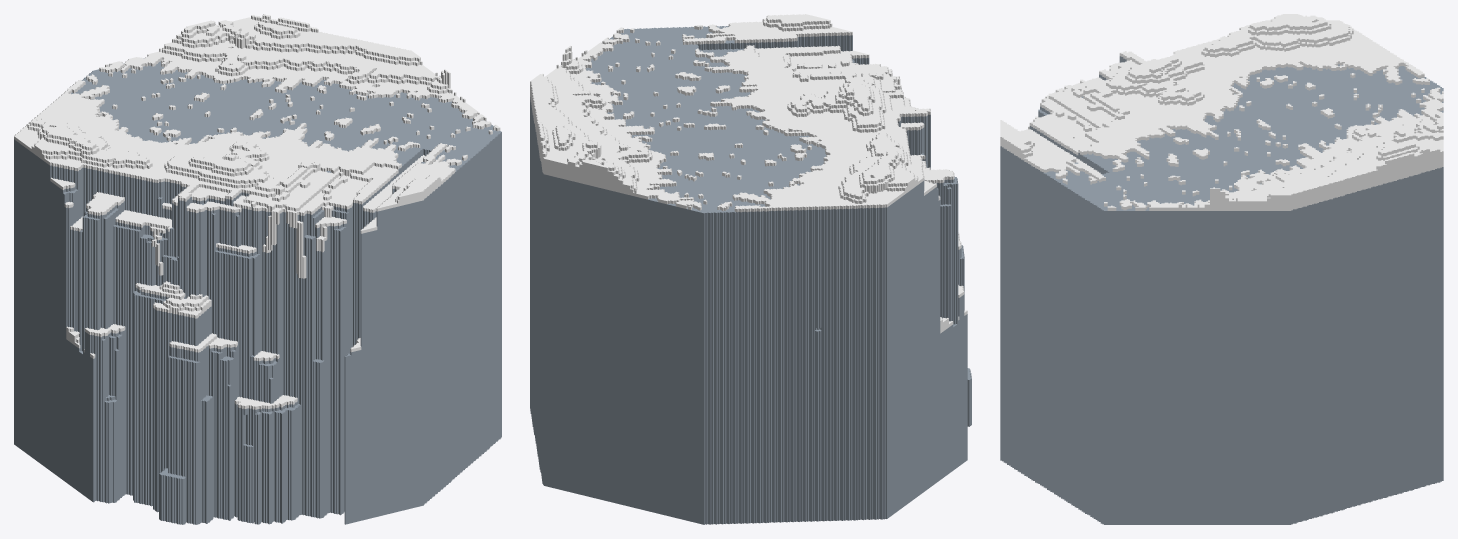
The model's file is factory4.1-24.obj.
3 views of the same model, side by side, from view 1: azimuth 30°, elevation 25°; view 2: azimuth 150°, elevation 25°; view 3: azimuth 270°, elevation 25° (orthographic). The views are drawn at different scales.
Bounding box in the file's own units: 25.6 × 21.4 × 25.6.
1 material, 1 textured.
